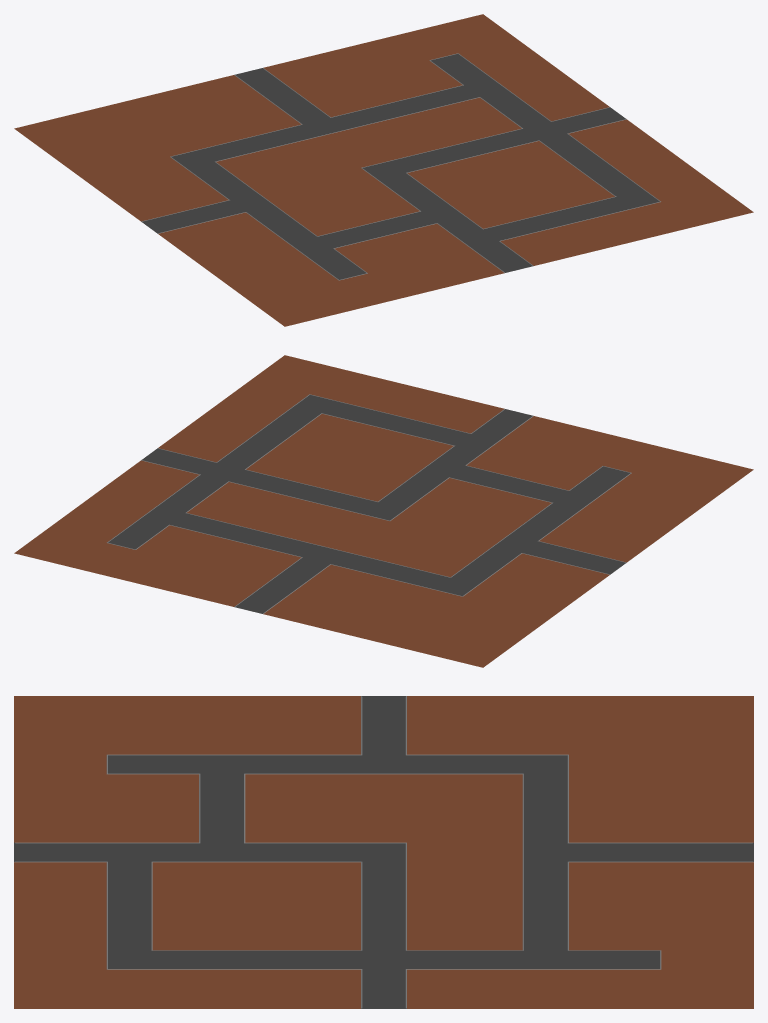
File: Plot.fbx
The picture shows the model from 3 angles, top to bottom: view 1: azimuth 30°, elevation 25°; view 2: azimuth 150°, elevation 25°; view 3: azimuth 270°, elevation 25°; orthographic projection. The views are drawn at different scales.
Visible parts, largest first — view 1: Plane; view 2: Plane; view 3: Plane.
Boxes of the visible parts, bbox=[...] form: Plane: bbox=[14, 14, 753, 326]; Plane: bbox=[14, 355, 753, 667]; Plane: bbox=[14, 696, 753, 1008].
Bounding box in the file's own units: 400 × 0.1926 × 400.
